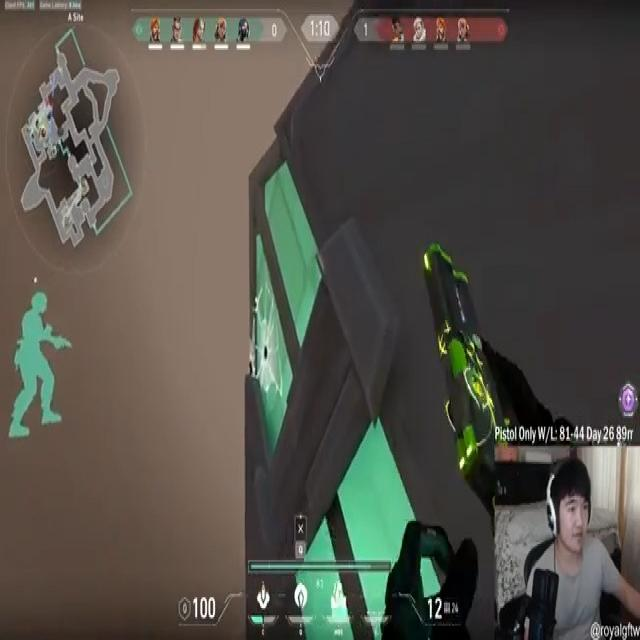ally behind wall: (6, 286, 74, 444)
